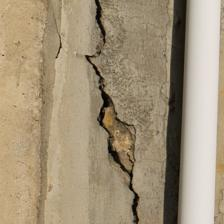Crack: (98, 92, 142, 175), (79, 2, 112, 90), (126, 179, 145, 224)
